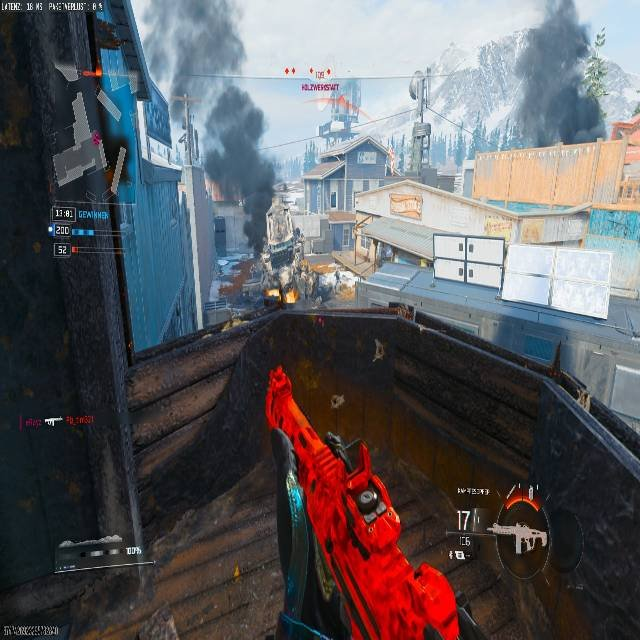head: (291, 225, 303, 240), (294, 226, 302, 234)
player: (269, 225, 309, 307), (291, 226, 305, 269)
